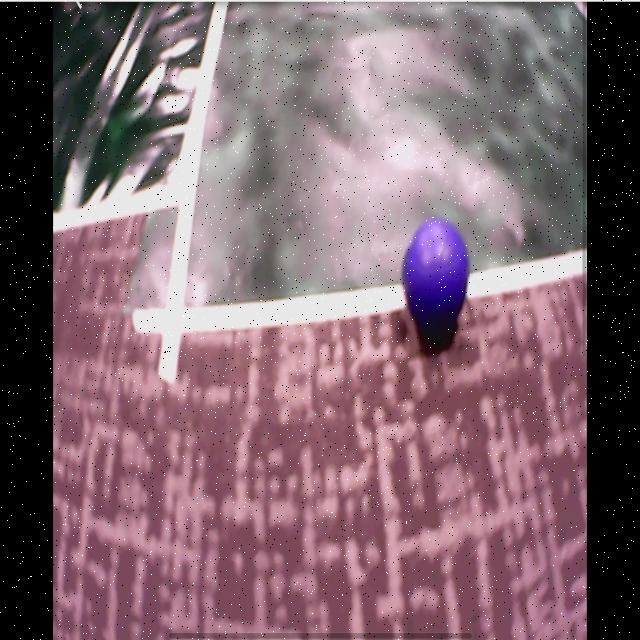ball: (403, 220, 470, 324)
